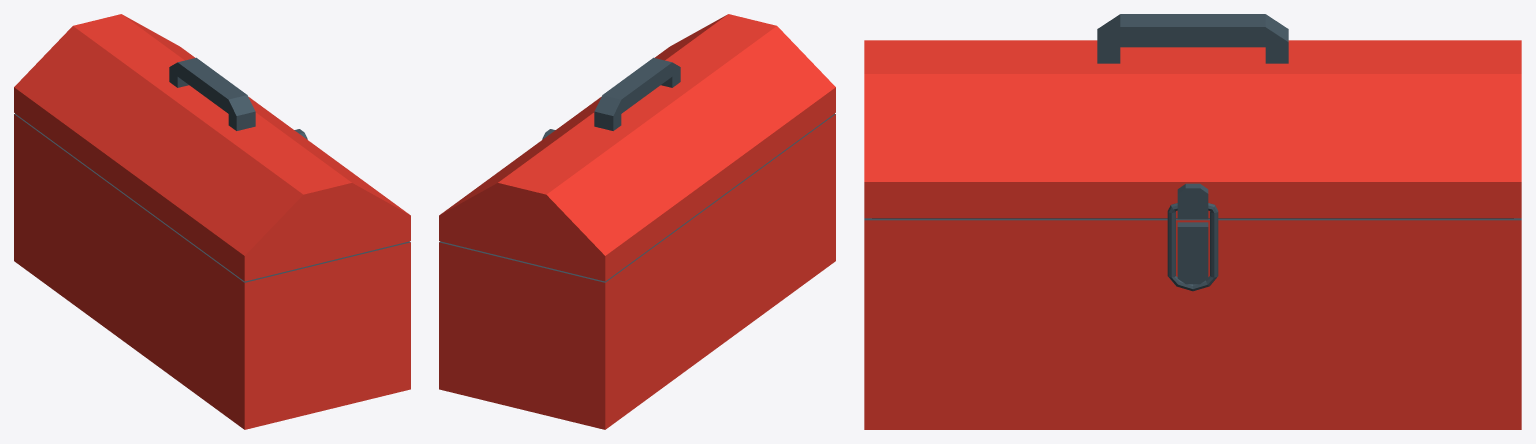
File: toolbox.glb
3 views of the same model, side by side, from view 1: azimuth 30°, elevation 25°; view 2: azimuth 150°, elevation 25°; view 3: azimuth 270°, elevation 25° (orthographic). The views are drawn at different scales.
Visible parts, largest first — view 1: Tool_box_Cube.026; view 2: Tool_box_Cube.026; view 3: Tool_box_Cube.026.
Part boxes in pixels (x1,y1,x2,y2): Tool_box_Cube.026: (14,14,410,429); Tool_box_Cube.026: (439,14,835,429); Tool_box_Cube.026: (864,14,1521,429).
Bounding box in the file's own units: 4.29 × 5.86 × 9.93.
